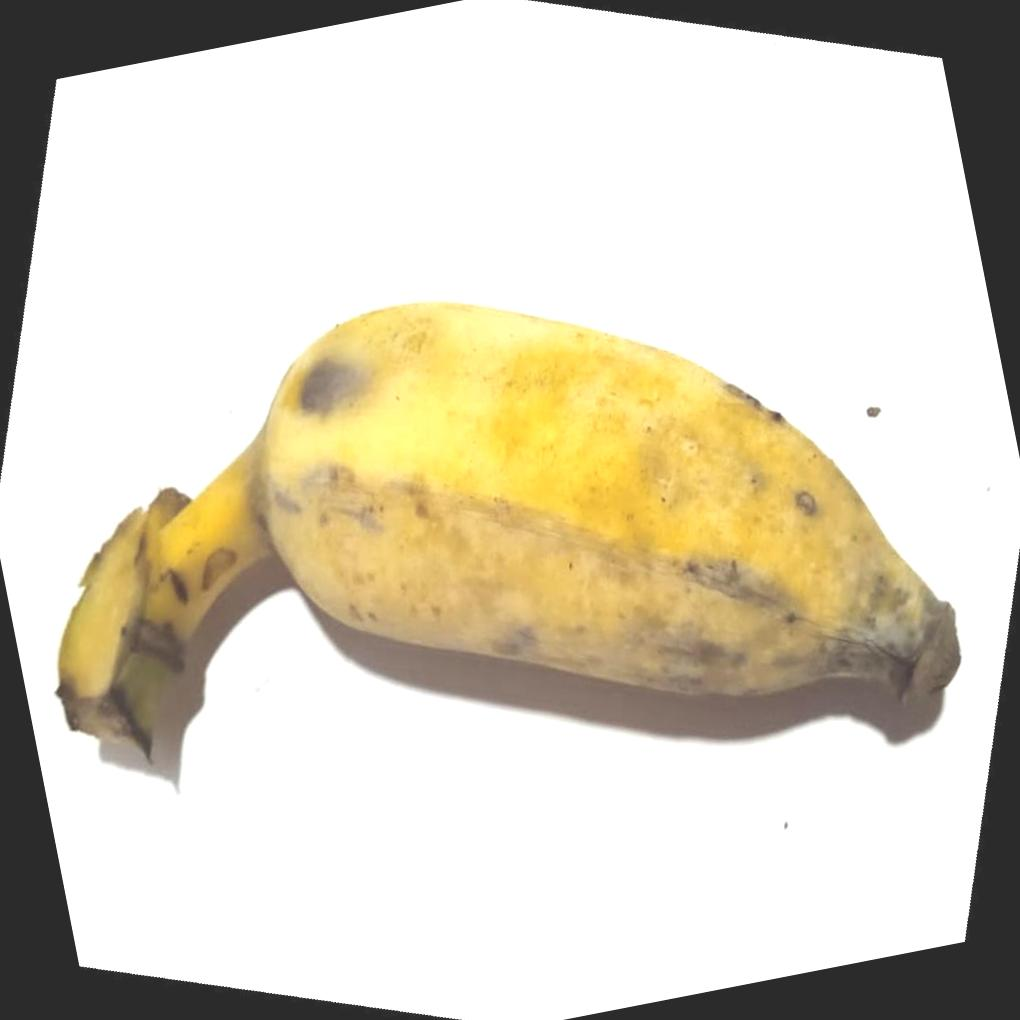Banana Ripe: (0, 181, 985, 875)
